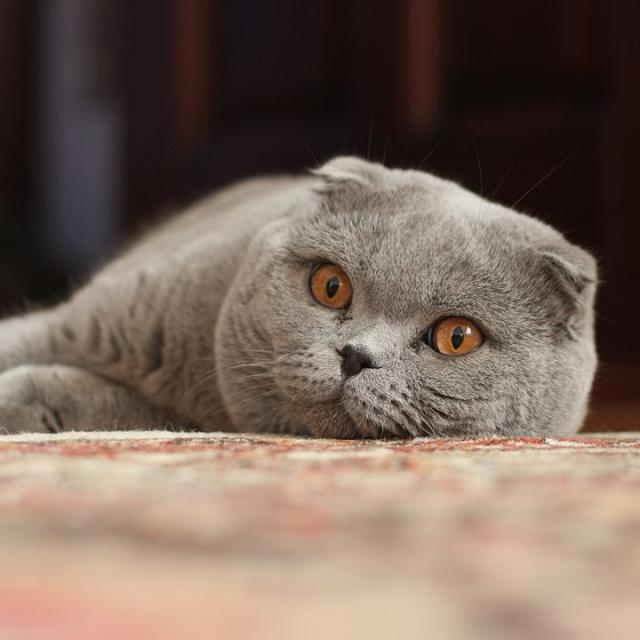Scottish Fold: (0, 151, 605, 449)
